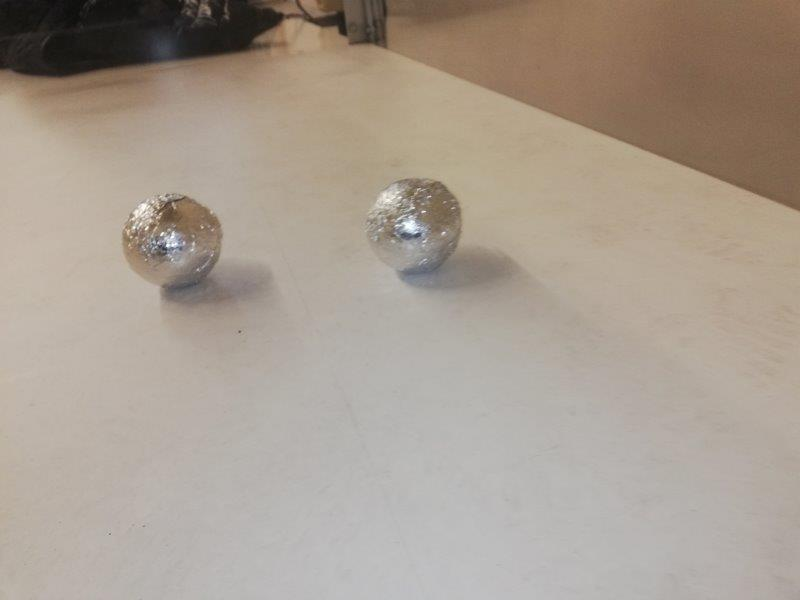bianca: (122, 194, 224, 289), (366, 178, 462, 275)
